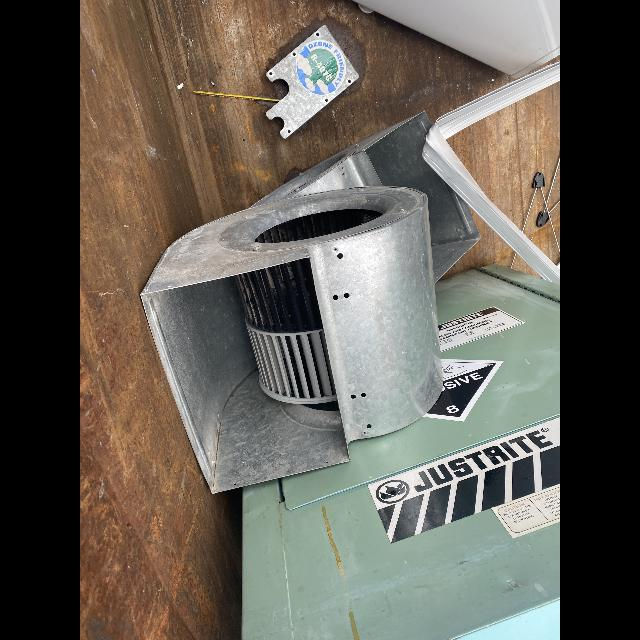Aluminium: (422, 61, 560, 284)
Ferrous Metal: (242, 263, 560, 640), (353, 0, 560, 76), (540, 188, 560, 254), (522, 188, 537, 233), (546, 157, 560, 205), (549, 200, 560, 213), (510, 253, 517, 269), (544, 206, 546, 212)
Galvanized Steel: (140, 110, 482, 494), (266, 24, 359, 139), (296, 39, 347, 95)
